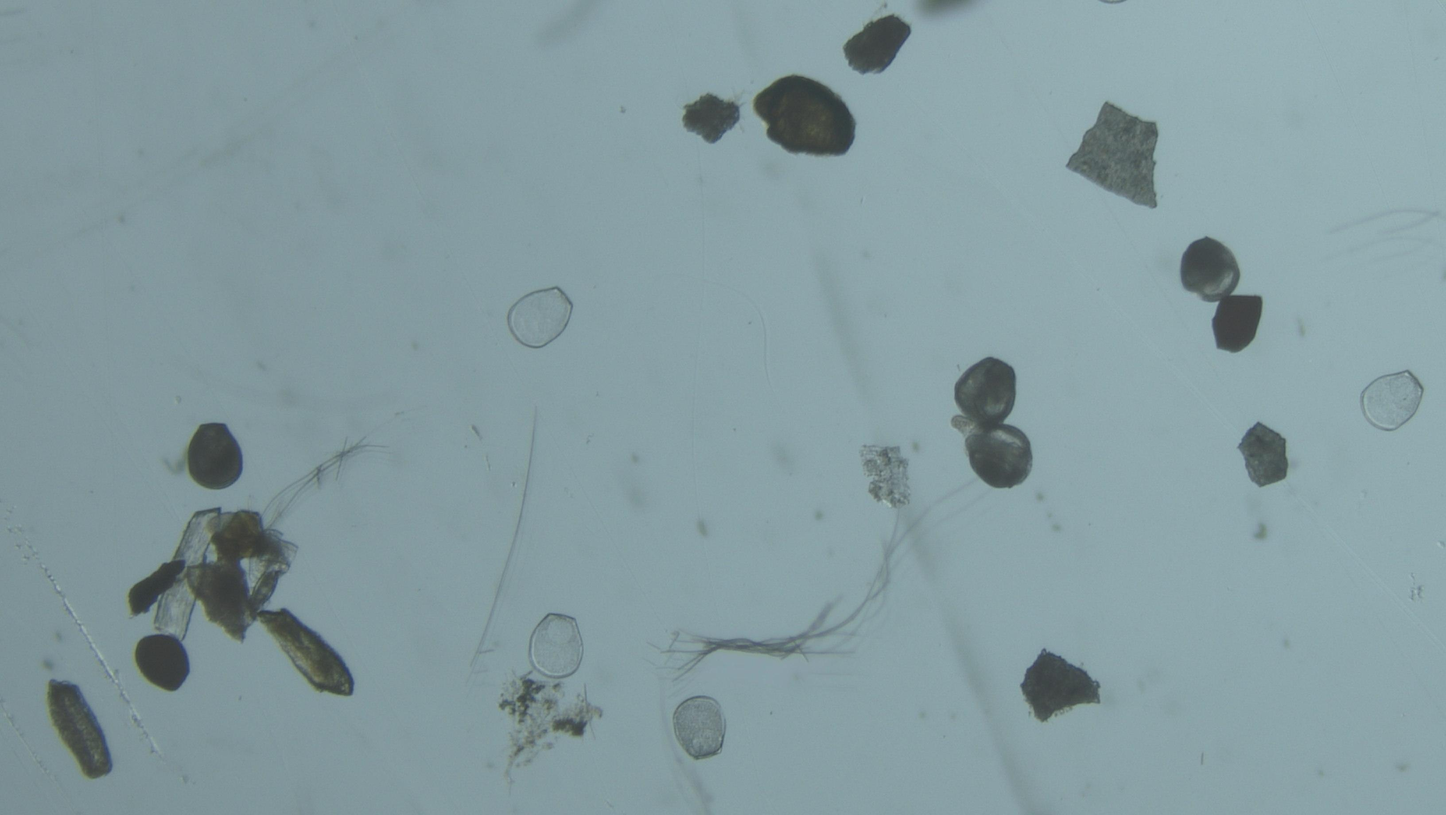dead: (507, 287, 573, 349), (1360, 370, 1425, 432), (529, 614, 583, 679), (672, 696, 726, 760)
live: (965, 424, 1033, 489), (954, 357, 1016, 427), (1180, 237, 1240, 302), (186, 423, 243, 490), (134, 634, 190, 692)
